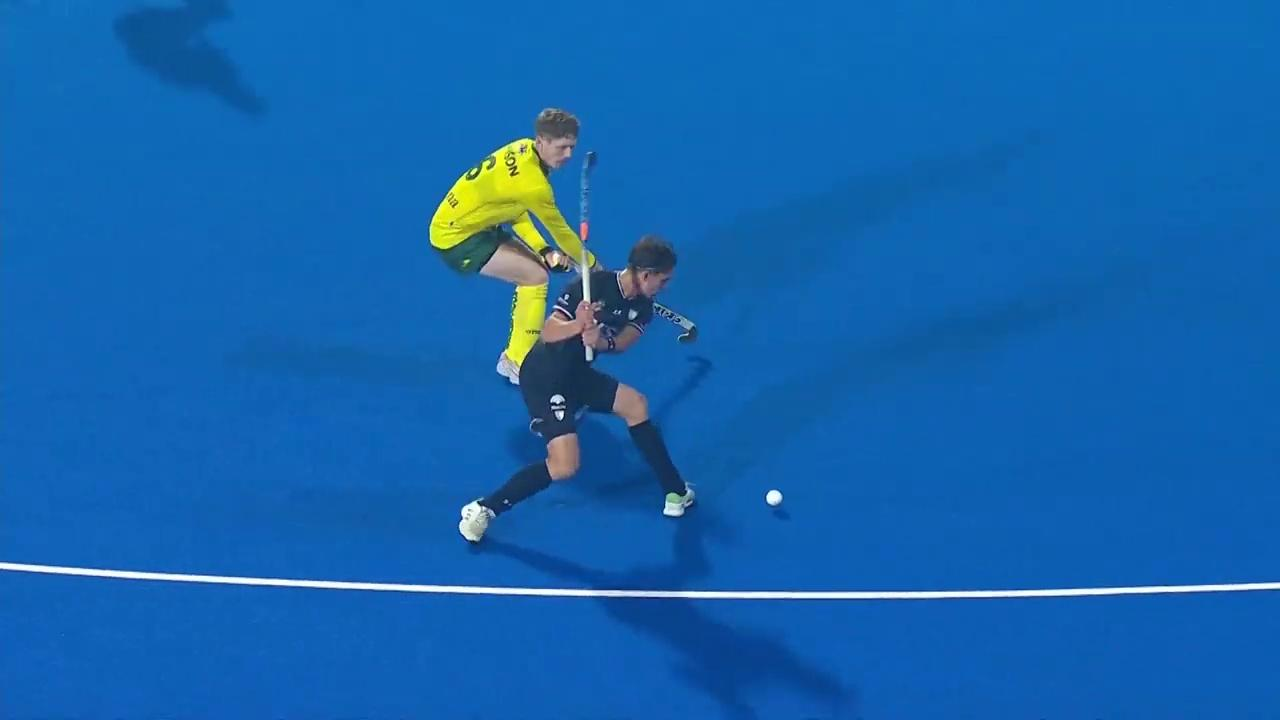ball: (754, 480, 798, 519)
